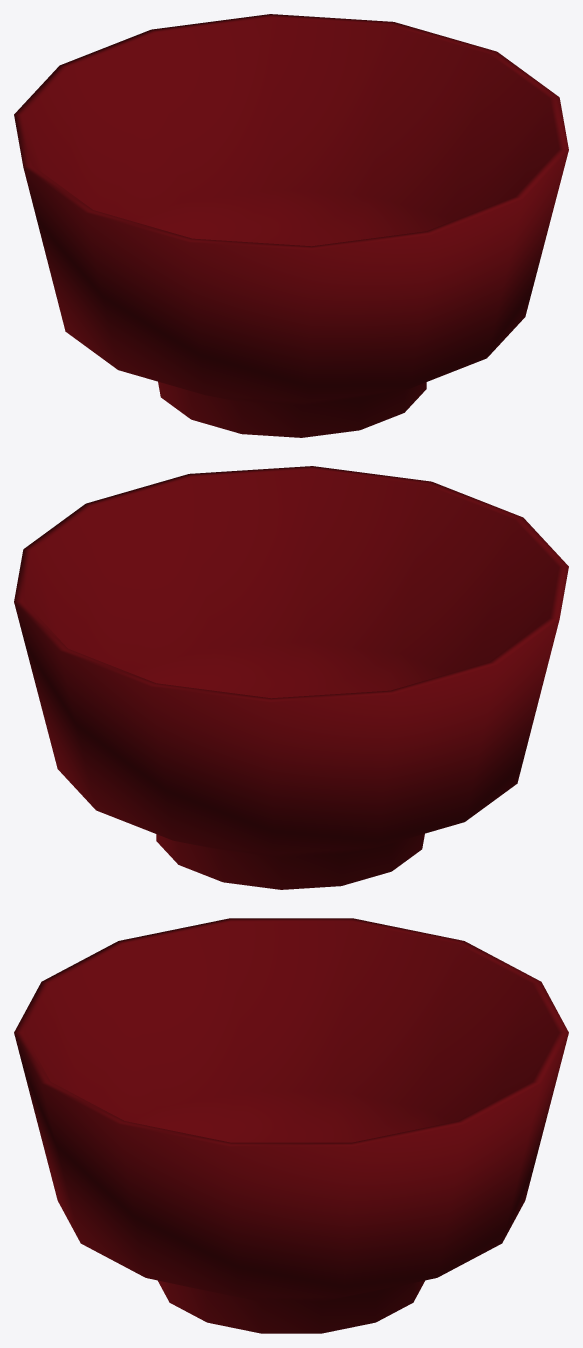
The model's file is RedSBowl.fbx.
The picture shows the model from 3 angles, top to bottom: view 1: azimuth 30°, elevation 25°; view 2: azimuth 150°, elevation 25°; view 3: azimuth 270°, elevation 25°; orthographic projection.
Visible parts, largest first — view 1: bowl.004; view 2: bowl.004; view 3: bowl.004.
Part boxes in pixels (x1=…): bowl.004: x1=14, y1=14, x2=568, y2=437; bowl.004: x1=14, y1=466, x2=568, y2=889; bowl.004: x1=14, y1=918, x2=568, y2=1333.
Bounding box in the file's own units: 342 × 171 × 351.
